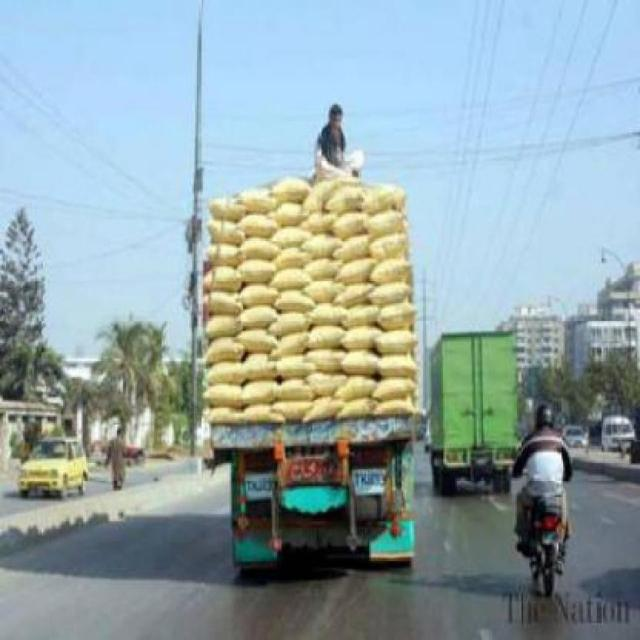normal_truck: (214, 418, 416, 575)
overloaded_truck: (202, 156, 422, 437)
